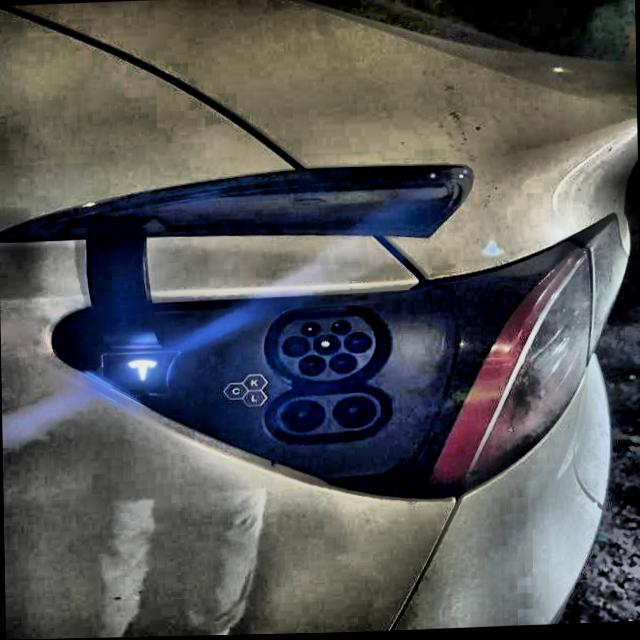inlet: (278, 317, 375, 382)
inlet-above-left: (301, 323, 321, 337)
inlet-above-right: (331, 320, 352, 336)
inlet-below-left: (298, 356, 326, 377)
inlet-below-right: (329, 354, 356, 375)
inlet-center: (313, 335, 341, 357)
inlet-center-left: (283, 337, 310, 359)
inlet-center-right: (343, 333, 372, 355)
